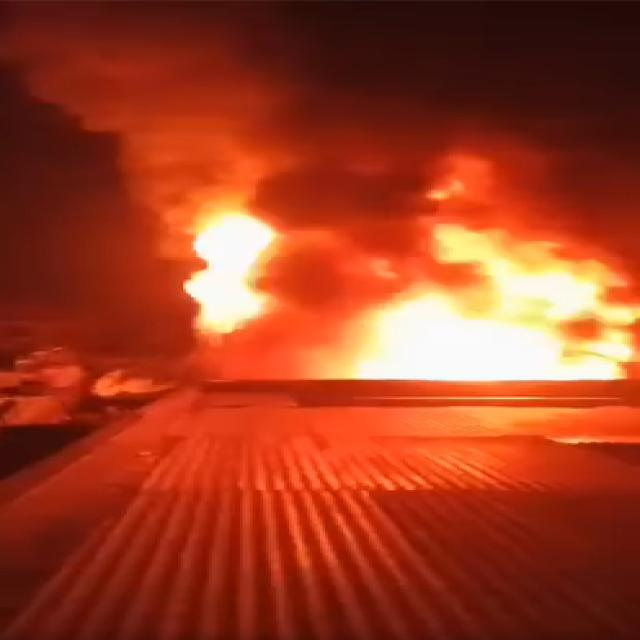Fire: (398, 240, 640, 382), (198, 215, 292, 334)
Smoke: (103, 9, 640, 263), (252, 238, 378, 372)
